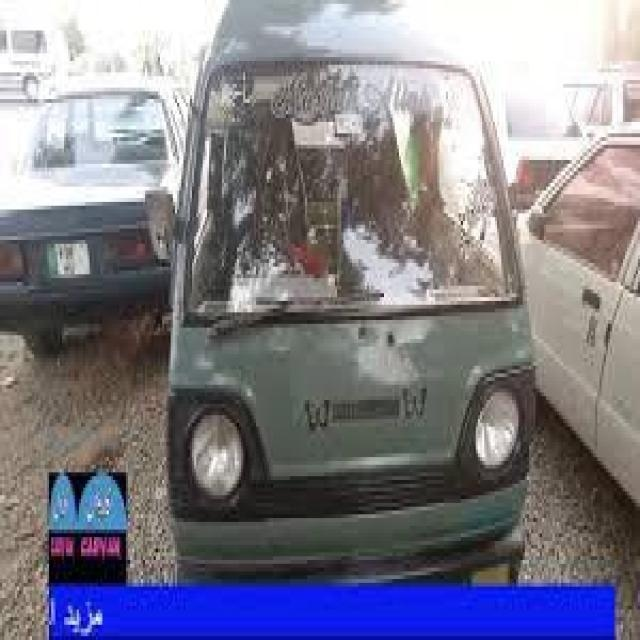Van: (166, 0, 534, 579)
